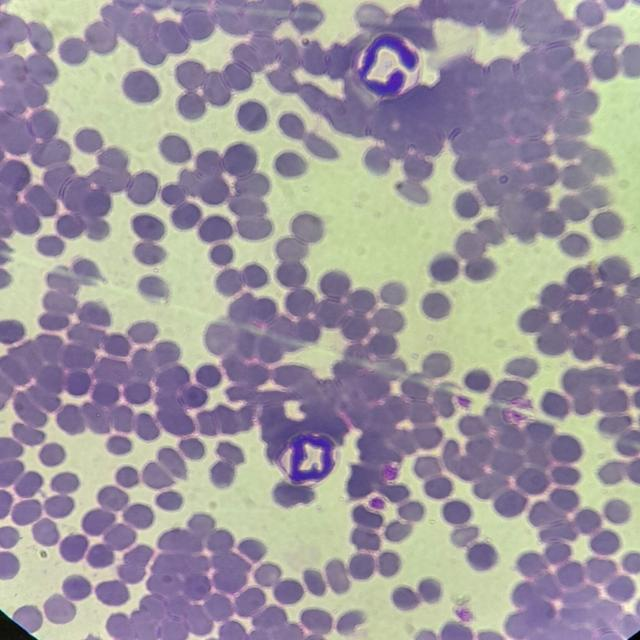Neutrofilo: (354, 30, 426, 102), (281, 429, 344, 490)
